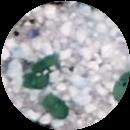Basil: (24, 56, 54, 92), (44, 96, 68, 117)
